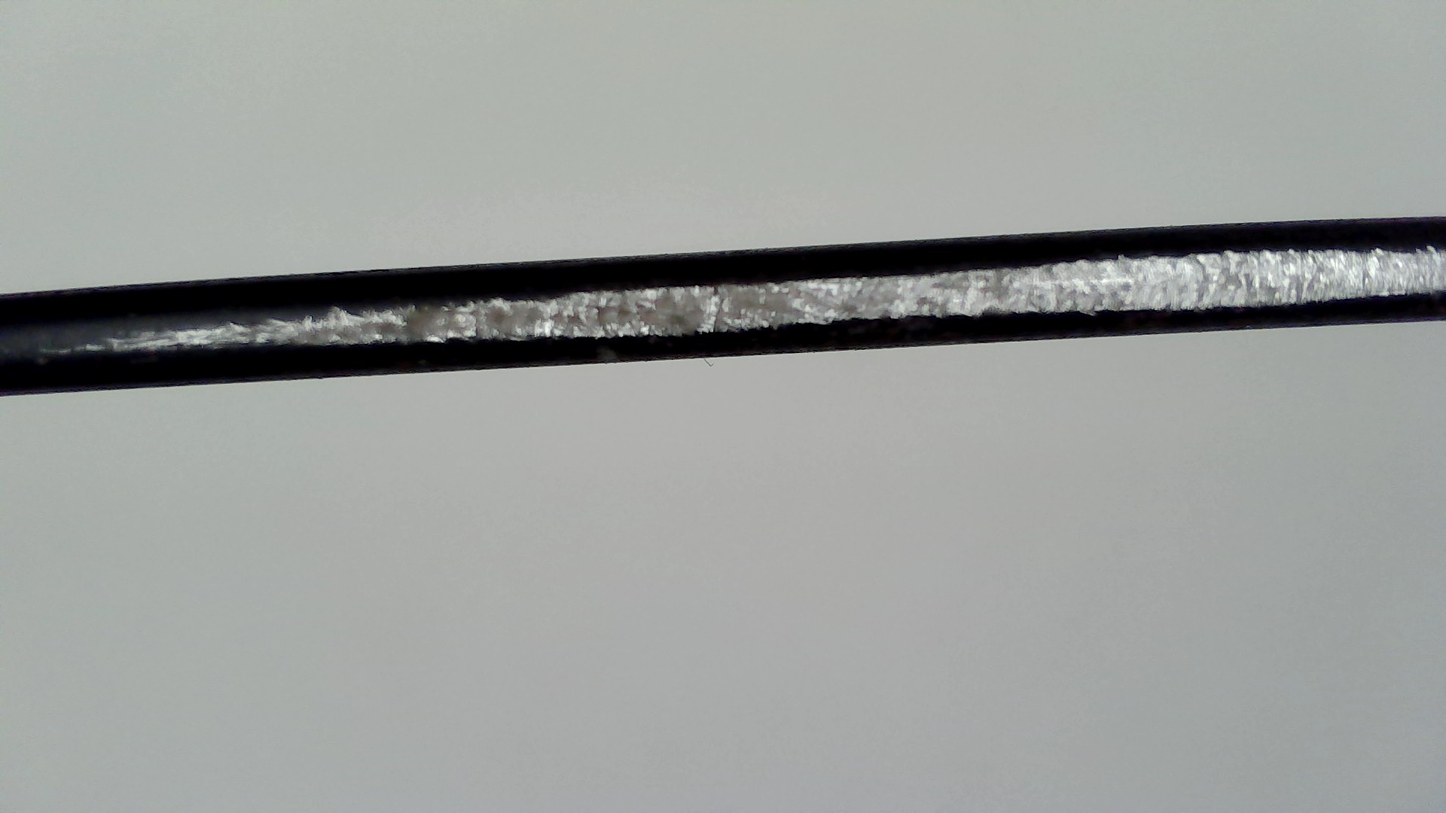defect: (66, 248, 1443, 348)
